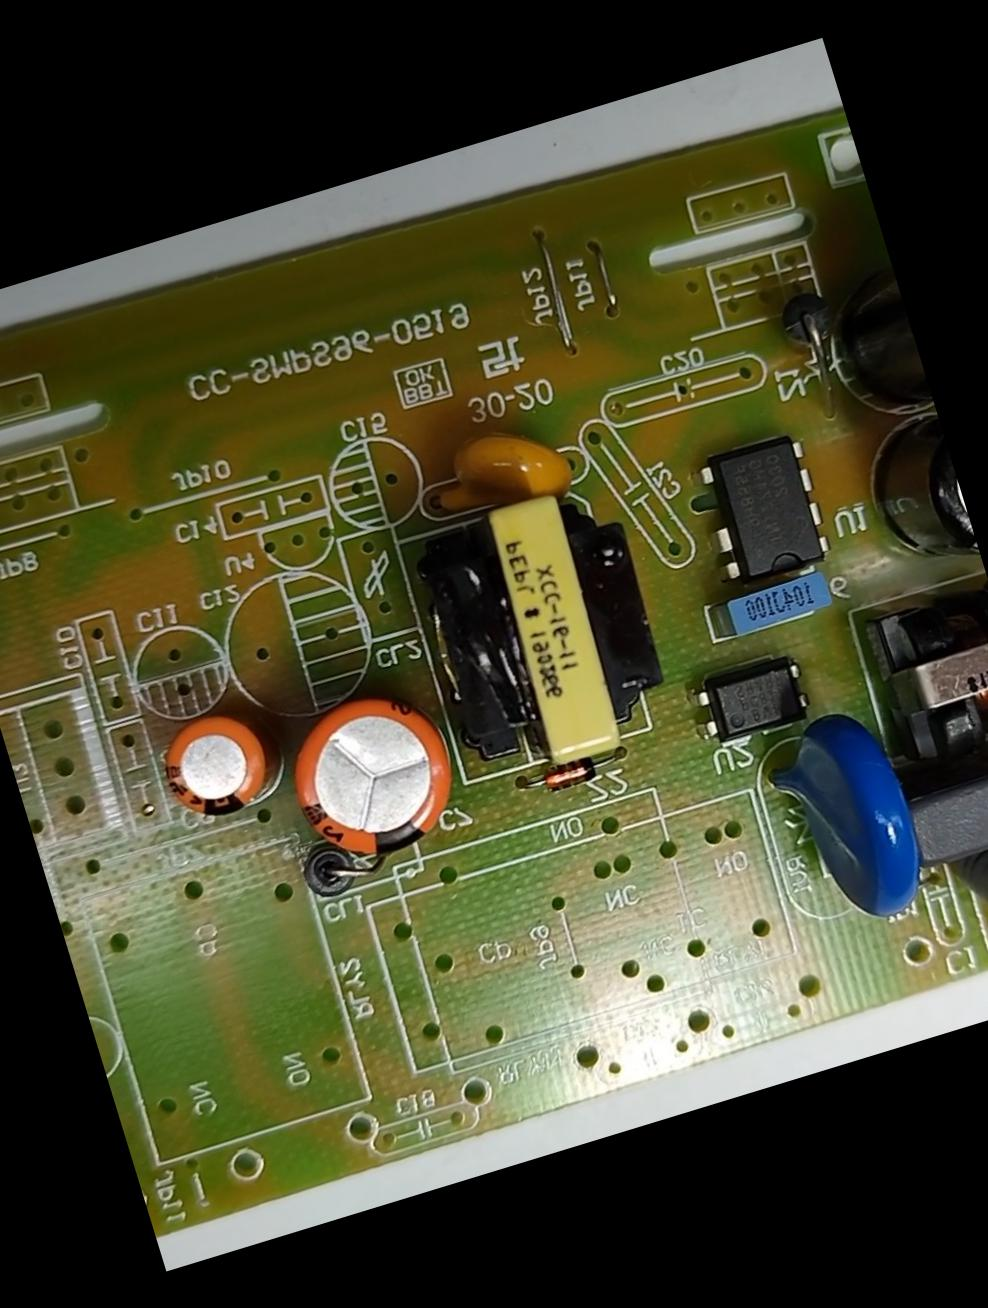Cap1: (270, 677, 471, 872)
Cap2: (147, 701, 281, 835)
Cap3: (855, 414, 983, 592)
Cap4: (806, 245, 932, 426)
MOSFET: (690, 424, 839, 592)
Mov: (756, 694, 944, 945)
Resistor: (950, 831, 987, 951)
Transformer: (400, 470, 686, 787), (852, 583, 987, 790)
